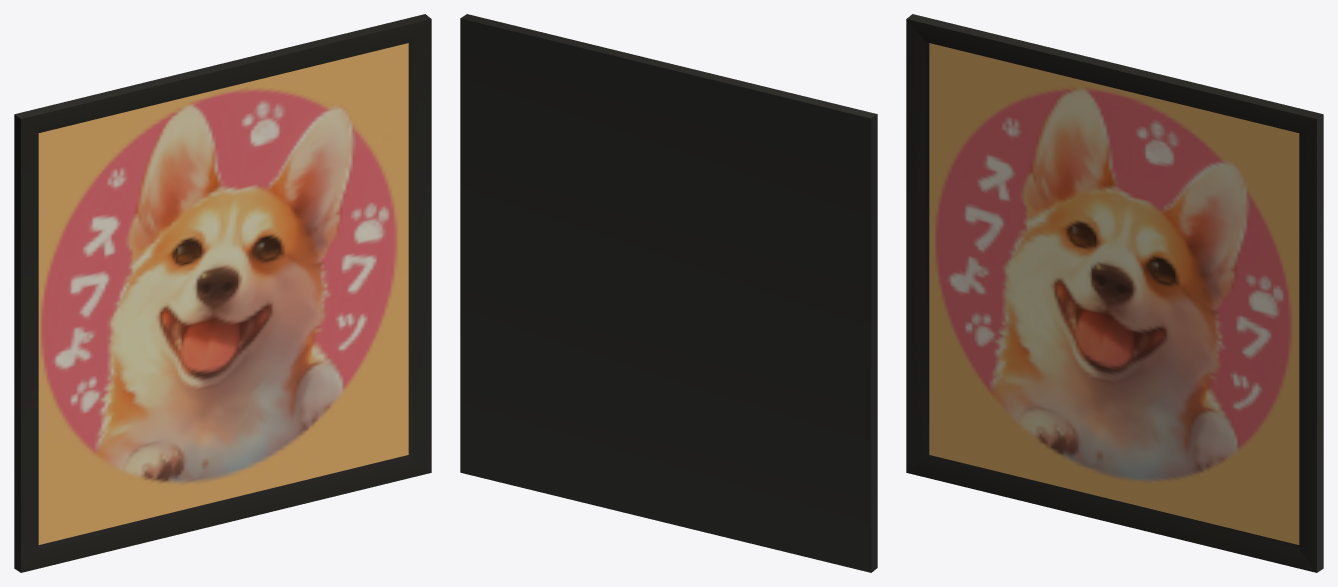
File: Frame_1.fbx
3 views of the same model, side by side, from view 1: azimuth 30°, elevation 25°; view 2: azimuth 150°, elevation 25°; view 3: azimuth 330°, elevation 25° (orthographic).
Visible parts, largest first — view 1: Frame_1; view 2: Frame_1; view 3: Frame_1.
Part boxes in pixels (<box>): Frame_1: <box>14,14,431,572</box>; Frame_1: <box>460,14,877,572</box>; Frame_1: <box>906,14,1323,572</box>.
Bounding box in the file's own units: 66.25 × 69.99 × 1.79.
